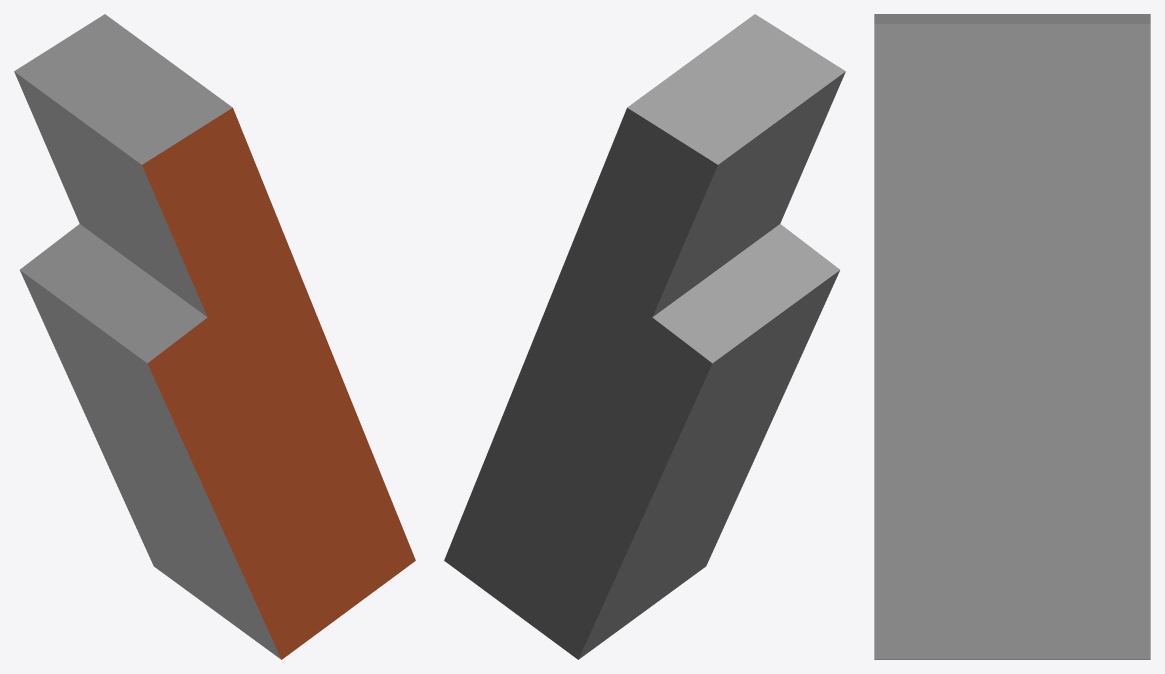
The model's file is construction_6864_assumed_A_Casa_h6m.obj.
3 renders of one model, left to right at view 1: azimuth 30°, elevation 25°; view 2: azimuth 150°, elevation 25°; view 3: azimuth 270°, elevation 25°, orthographic. The views are drawn at different scales.
Visible parts, largest first — view 1: construction_6864_assumed_A_Casa; view 2: construction_6864_assumed_A_Casa; view 3: construction_6864_assumed_A_Casa.
Part boxes in pixels (x1,y1,x2,y2): construction_6864_assumed_A_Casa: (14,14,415,659); construction_6864_assumed_A_Casa: (444,14,845,659); construction_6864_assumed_A_Casa: (874,14,1150,659).
Bounding box in the file's own units: 7.42 × 14.6 × 6.
